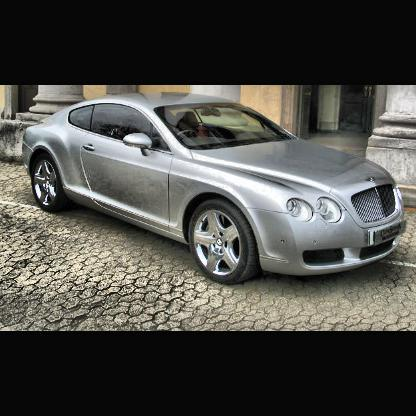Bentley Continental GT Coupe 2007: (25, 93, 407, 285)
